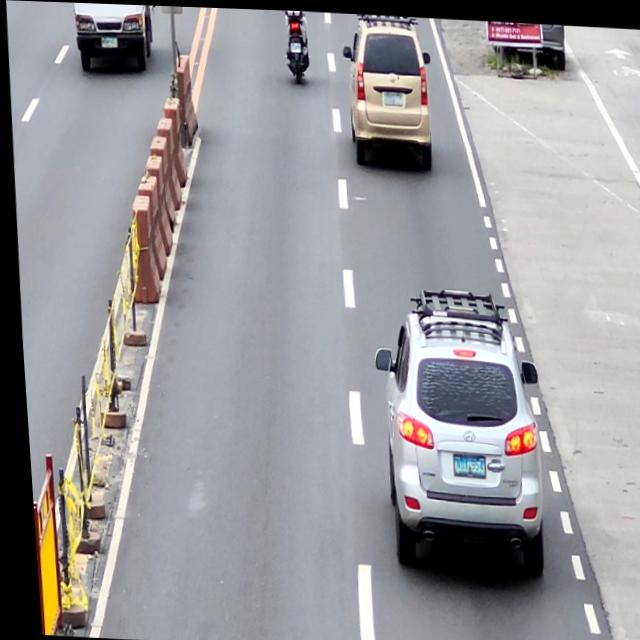Car: (364, 286, 545, 577), (336, 10, 437, 168)
License-Plate: (447, 453, 480, 475), (381, 88, 403, 102), (289, 39, 301, 52)
Motorcycle: (283, 8, 312, 84)
